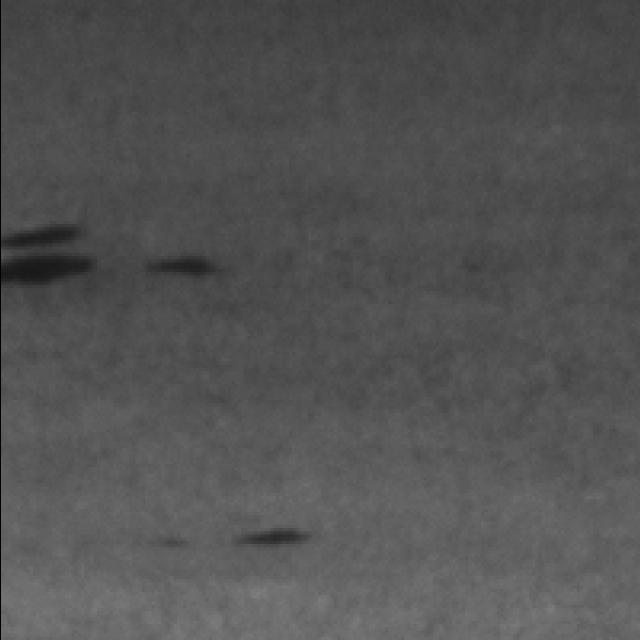inclusion: (0, 208, 110, 296), (136, 231, 245, 299), (222, 518, 324, 558), (143, 514, 197, 562)
